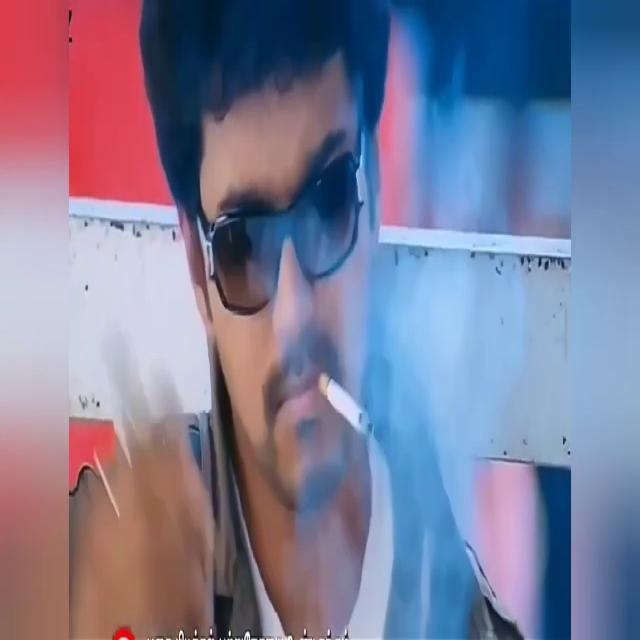smoking: (218, 170, 405, 522)
